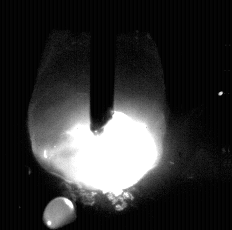arame: (91, 0, 115, 134)
poca: (28, 0, 168, 230)
